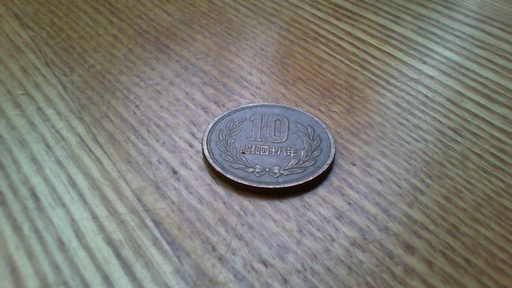10yen: (202, 103, 335, 193)
